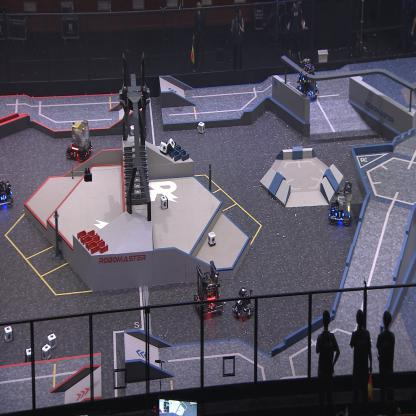car: (192, 261, 224, 319), (293, 56, 319, 105), (65, 119, 93, 162), (328, 180, 353, 225), (232, 286, 256, 322), (0, 178, 13, 209)
